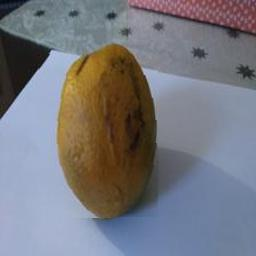Orange Semirotten: (38, 42, 158, 218)
